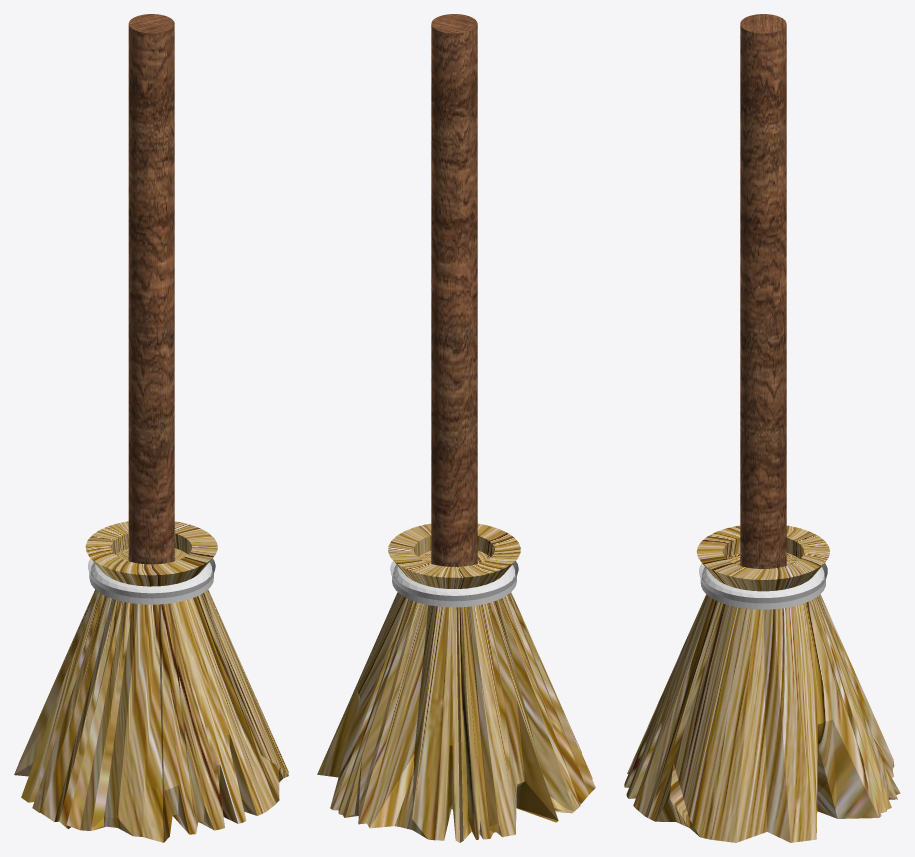
The model's file is broomstick.fbx.
3 renders of one model, left to right at view 1: azimuth 30°, elevation 25°; view 2: azimuth 150°, elevation 25°; view 3: azimuth 270°, elevation 25°, orthographic.
Parts seen in each view (by area): view 1: Circle, Cylinder; view 2: Circle, Cylinder; view 3: Circle, Cylinder.
Part boxes in pixels (<box>): Circle: <box>14,521,288,842</box>; Cylinder: <box>128,14,174,564</box>; Circle: <box>317,523,595,842</box>; Cylinder: <box>431,14,477,566</box>; Circle: <box>624,525,900,842</box>; Cylinder: <box>740,14,786,568</box>.
Size of the model in its own units: 29.71 by 91.51 by 29.8.
Materials: 3 (2 with a texture image).
